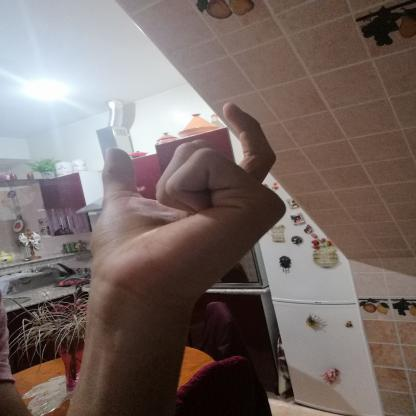NOON: (63, 90, 304, 328)
